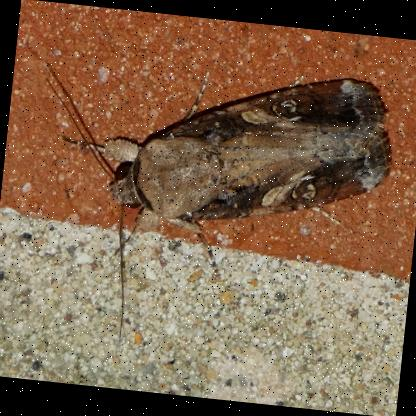Fall Armyworm Moth: (15, 43, 401, 370)
